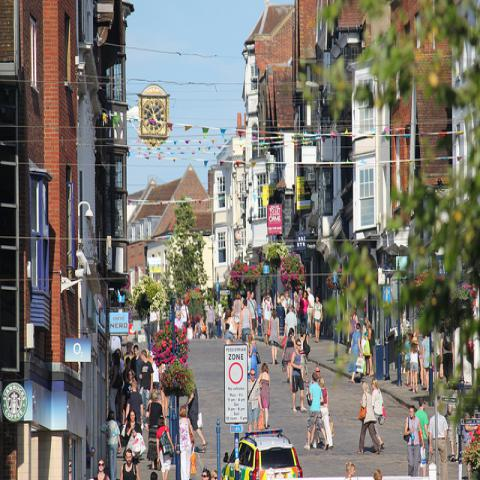car: (221, 427, 302, 475)
